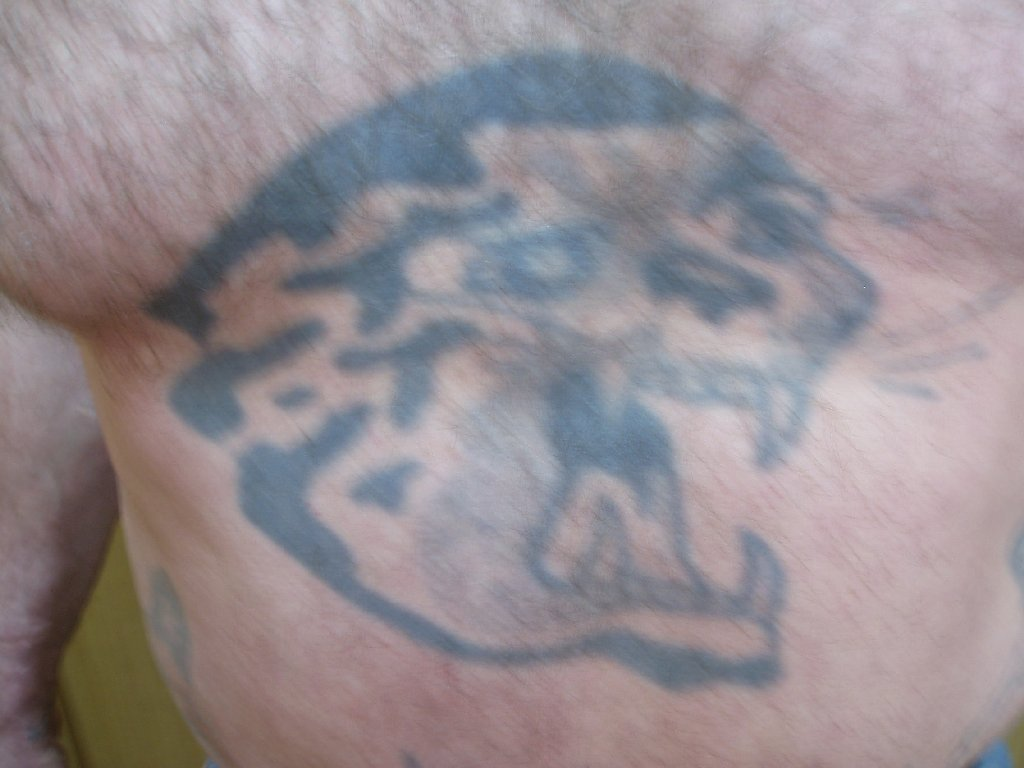tatu5_tigr: (131, 48, 883, 698)
